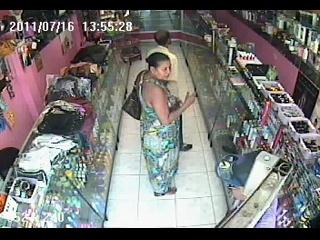Normal: (138, 52, 195, 198), (122, 70, 148, 120)
